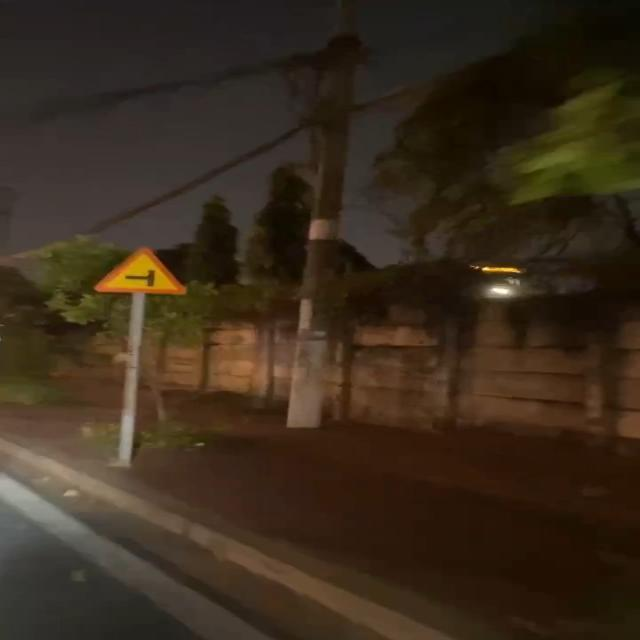205-duong-giao-nhau: (91, 242, 187, 296)
